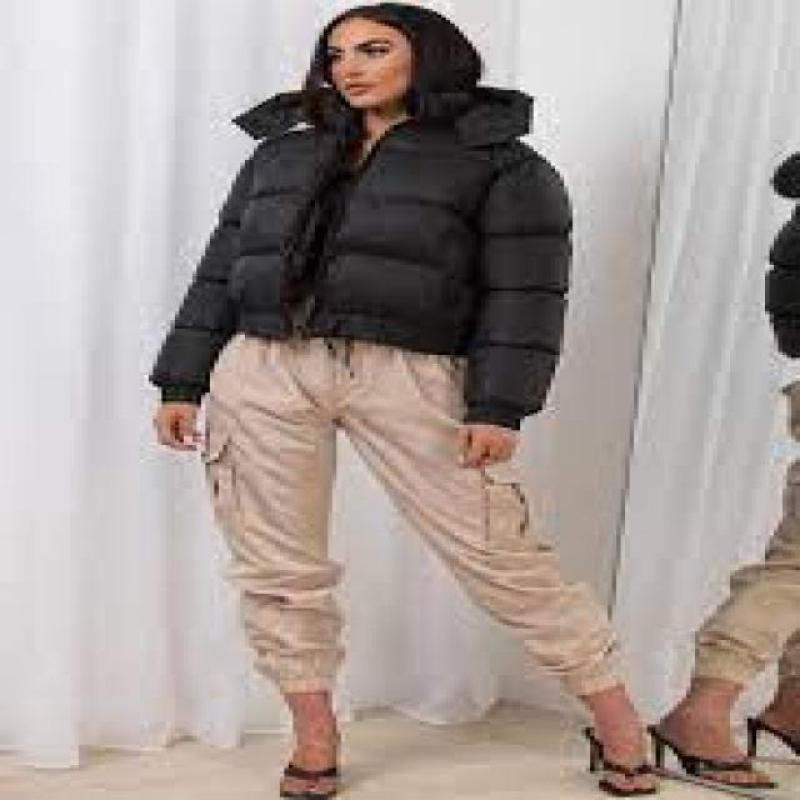coat: (145, 78, 574, 432)
trousers: (198, 326, 632, 701)
